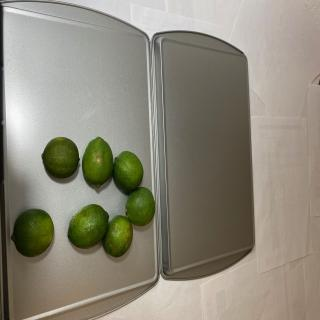Chilli: (41, 136, 80, 179)
Lemon: (10, 208, 54, 258), (67, 203, 109, 249), (102, 215, 133, 258), (113, 150, 144, 192), (125, 186, 155, 226)
